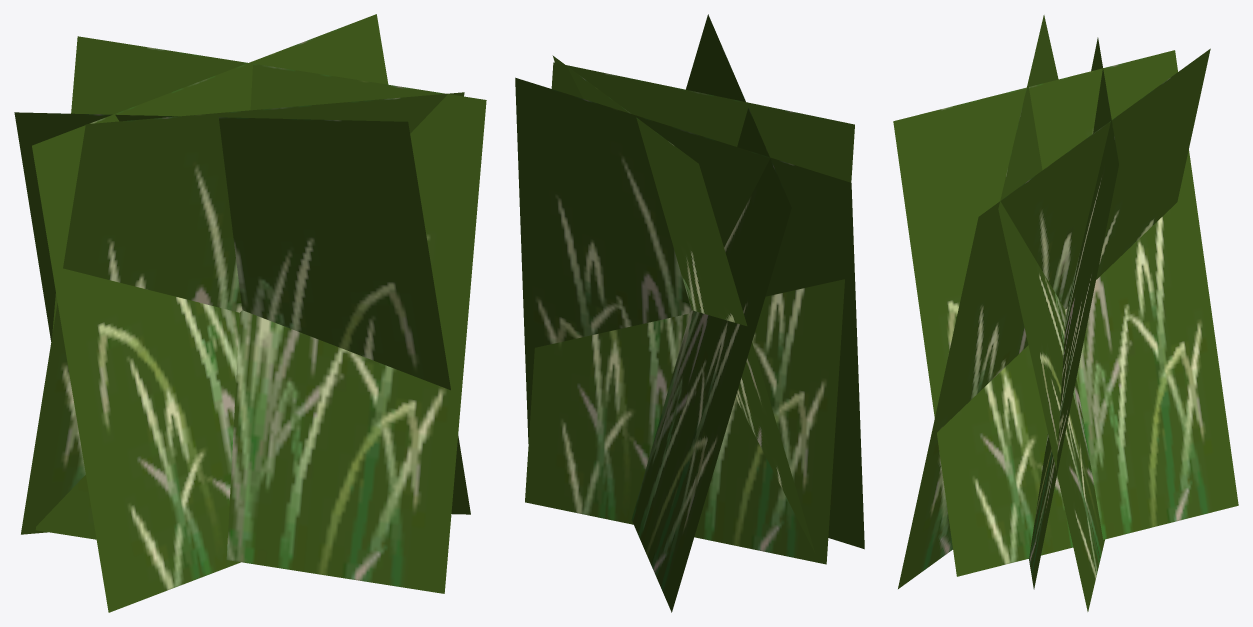
The model's file is reed_pond_lush.glb.
The picture shows the model from 3 angles, left to right: view 1: azimuth 30°, elevation 25°; view 2: azimuth 150°, elevation 25°; view 3: azimuth 270°, elevation 25°; orthographic projection. The views are drawn at different scales.
Bounding box in the file's own units: 5.42 × 6.41 × 4.45.
1 material, 1 textured.
